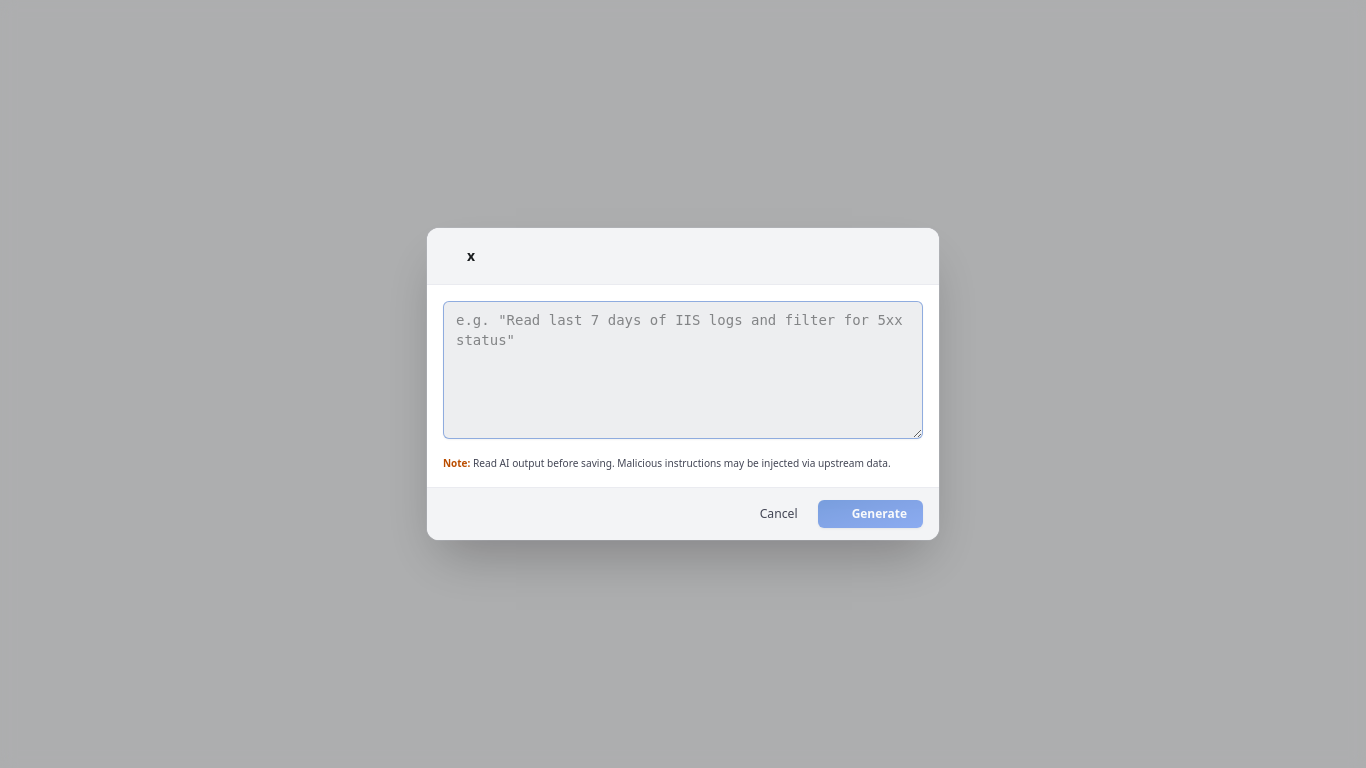
Test: AiPromptDialog › clears previous error on next submit attempt
Replace the text in the text box named "AI prompt" with "go". click: (683, 370)
box: top-left (443, 301), bottom-right (923, 439)
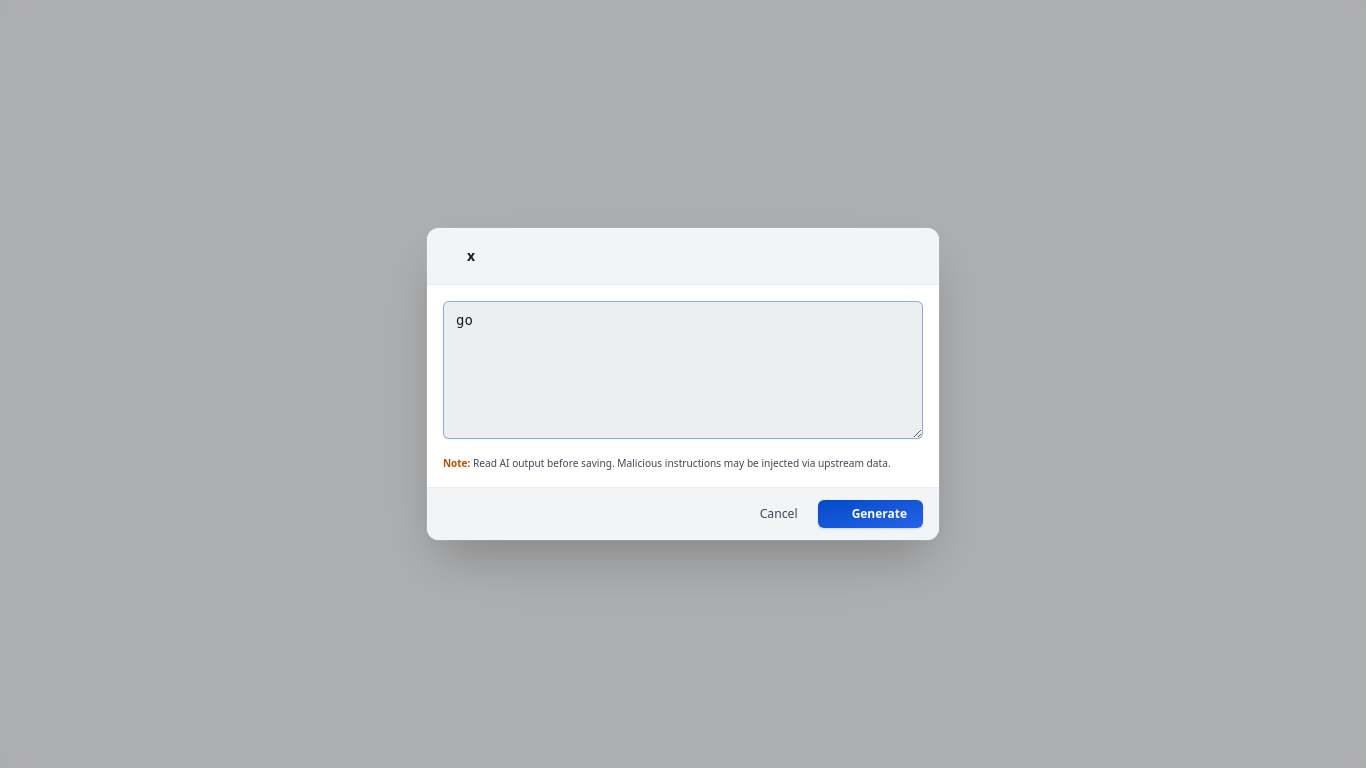
Click the button "Generate". click: (870, 514)
box: top-left (818, 500), bottom-right (923, 528)
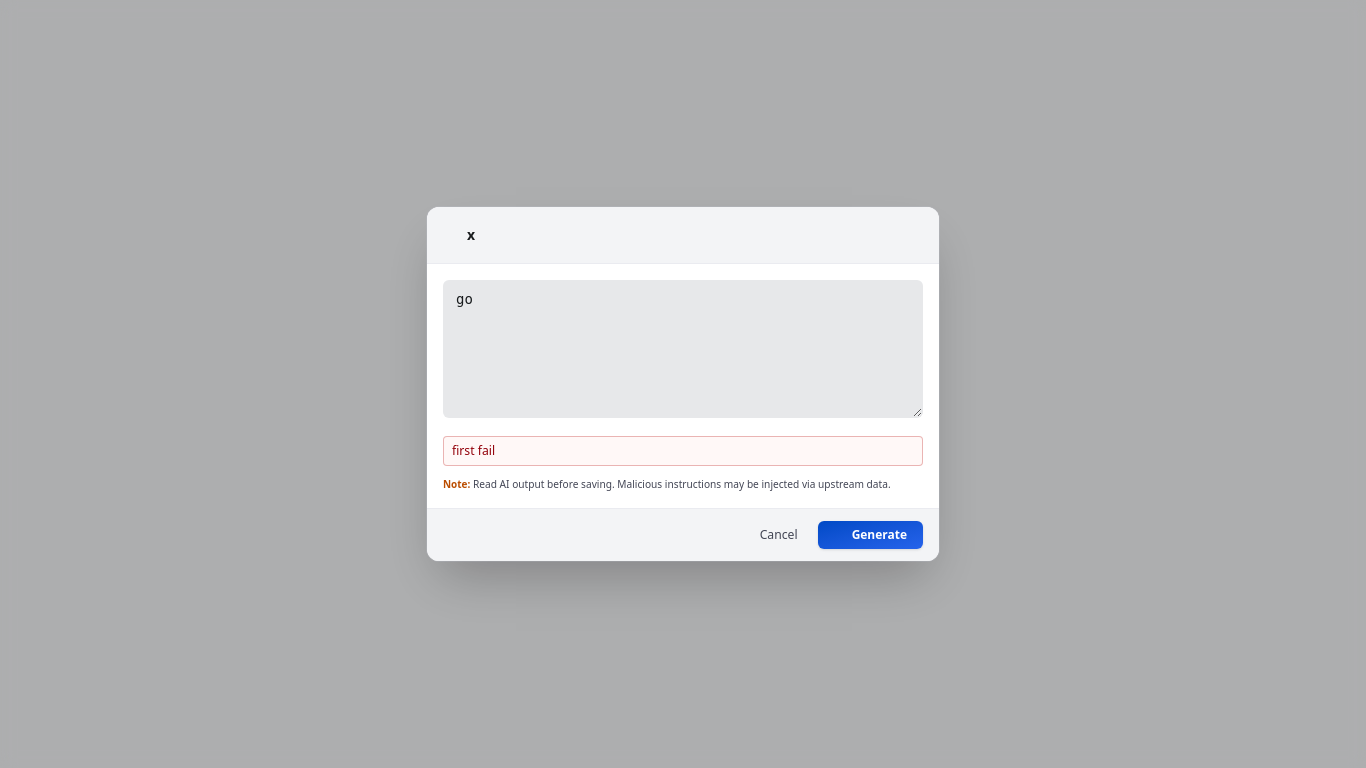
Result: the message "first fail" is shown at top-left (443, 436), bottom-right (923, 466)
Click the button "Generate". click: (870, 535)
box: top-left (818, 521), bottom-right (923, 549)
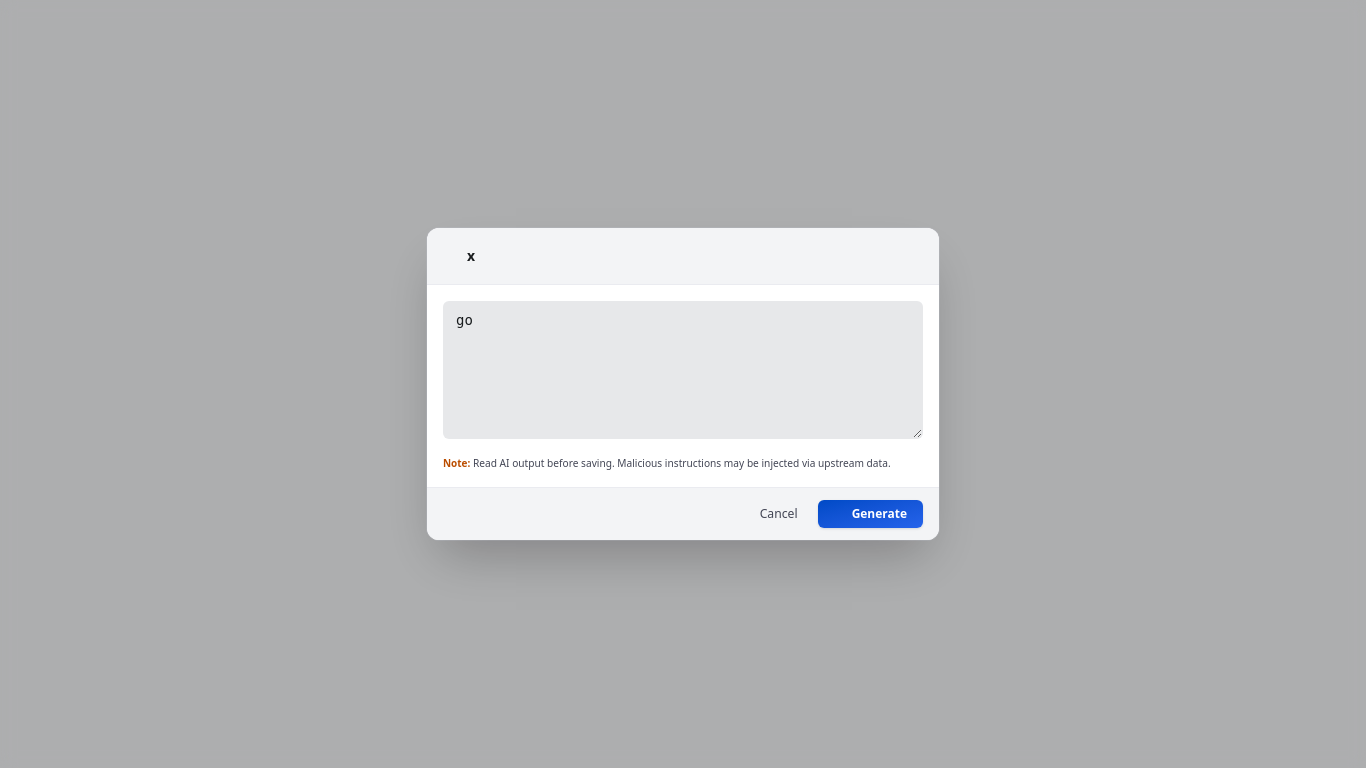
Result: the message "first fail" is gone
